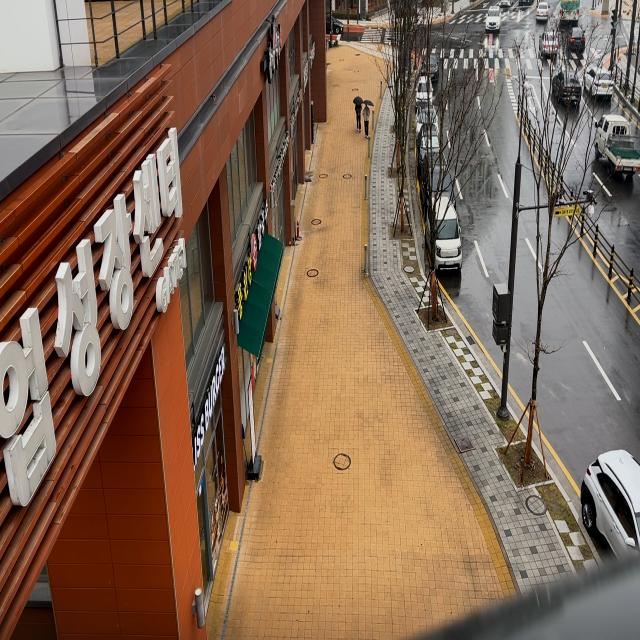Bus: (557, 0, 586, 28)
Car: (571, 427, 640, 599), (422, 198, 462, 284), (420, 144, 458, 214), (582, 60, 617, 104), (552, 59, 581, 110), (414, 98, 444, 140), (415, 123, 444, 166), (412, 77, 437, 111), (562, 24, 590, 54), (538, 30, 564, 62), (420, 52, 446, 82), (481, 5, 505, 36), (324, 11, 351, 38), (533, 0, 553, 26)
Truck: (585, 111, 640, 188)
